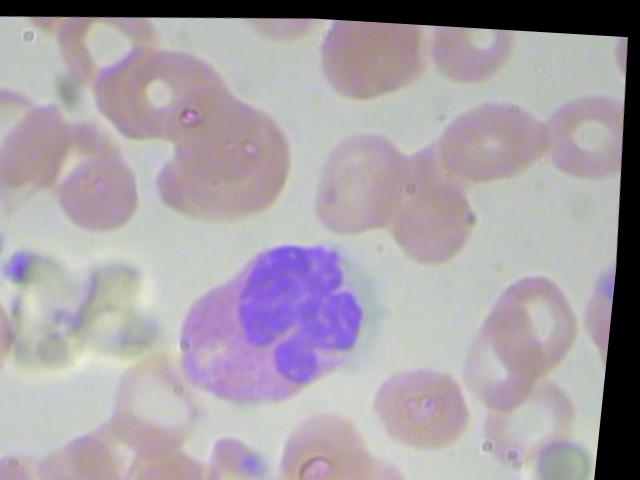Red Blood Cells: (307, 118, 421, 235), (480, 359, 594, 475), (485, 261, 591, 374), (437, 85, 559, 182), (309, 15, 432, 107), (368, 355, 479, 455), (537, 81, 629, 177), (55, 146, 150, 238), (466, 305, 549, 404), (419, 20, 524, 84)
White Blood Cells: (168, 224, 390, 418)
